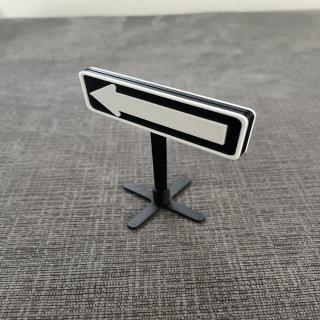sign_oneway_left: (81, 68, 254, 162)
